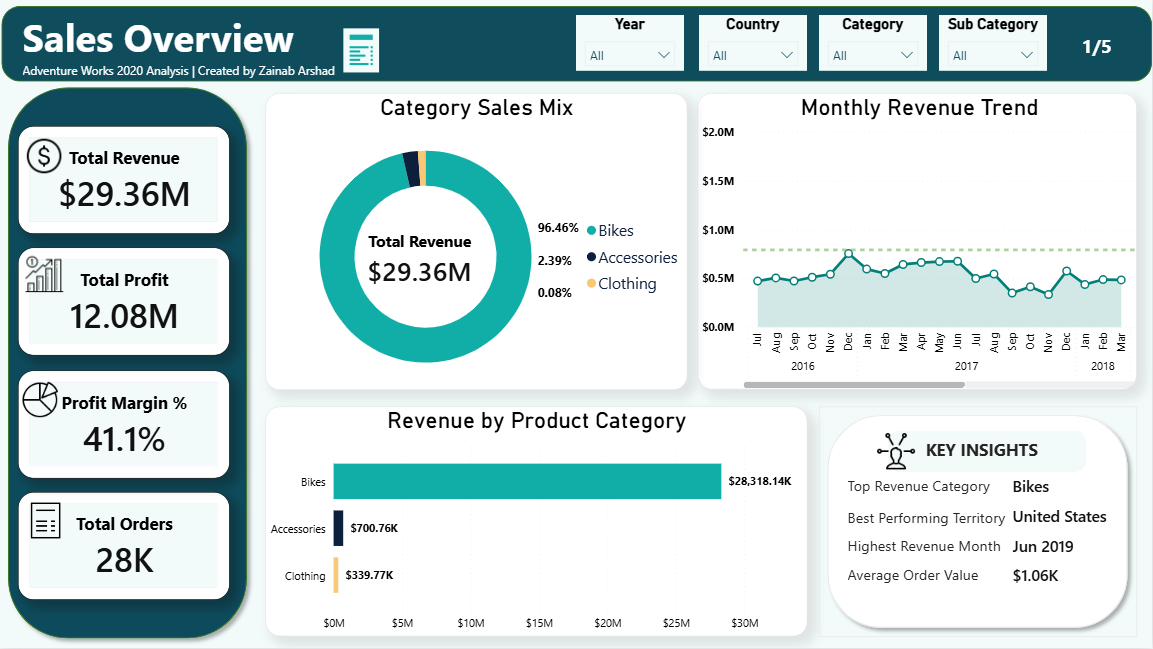

The page's visual inventory and layout, read from the dashboard file:
{"tool":"powerbi","page":{"name":"Sales Overview","canvas":[1280,720],"ordinal":0},"visuals":[{"type":"lineChart","title":"Monthly Revenue Trend","fields":{"Y":["Sales.Total Revenue"],"Category":["Calendar.CalendarYear","Calendar.Month Short"]},"box":[774.6,103.4,488.3,329.3],"z":0},{"type":"clusteredBarChart","title":"Revenue by Product Category","fields":{"Category":["Products.Category"],"Y":["Sales.Total Revenue"]},"box":[295,451.7,601.7,255],"z":1000},{"type":"donutChart","title":"Category Sales Mix","fields":{"Category":["Products.Category"],"Y":["Sales.Total Revenue"]},"box":[295,103.3,468.3,330],"z":2000},{"type":"shape","box":[1,7,1278.3,84],"z":3000},{"type":"shape","box":[0,88.3,283.3,630],"z":4000},{"type":"cardVisual","fields":{"Data":["Sales.Total Orders"]},"box":[20,546,235,120],"z":5000},{"type":"cardVisual","fields":{"Data":["Sales.Profit Margin %"]},"box":[20,411.1,235,120],"z":6000},{"type":"cardVisual","title":"Total Revenue","fields":{"Data":["Sales.Total Revenue"]},"box":[20,140,235,120],"z":7000},{"type":"cardVisual","fields":{"Data":["Sales.Total Profit"]},"box":[20,275.6,235,120],"z":8000},{"type":"cardVisual","title":"Total Revenue","fields":{"Data":["Sales.Total Revenue"]},"box":[373.3,233.3,186.7,108.3],"z":9000},{"type":"textbox","box":[585,220,95,151.7],"z":10000},{"type":"slicer","title":"Year","fields":{"Values":["Calendar.CalendarYear"]},"box":[640,16.7,120,61.7],"z":11000},{"type":"slicer","title":"Sub Category","fields":{"Values":["Products.SubCategory"]},"box":[1043.3,16.7,120,61.7],"z":12000},{"type":"slicer","title":"Category","fields":{"Values":["Products.Category"]},"box":[910,16.7,120,61.7],"z":13000},{"type":"slicer","title":"Country","fields":{"Values":["Territory.Country"]},"box":[776.7,16.7,120,61.7],"z":14000},{"type":"textbox","box":[20,6.7,588.3,96.7],"z":15000},{"type":"shape","box":[909.8,451.7,353.1,256.1],"z":16000},{"type":"textbox","box":[936,524,183.3,33.3],"z":17000},{"type":"textbox","box":[936,558,205,40],"z":18000},{"type":"textbox","box":[936,590,191.7,38.3],"z":19000},{"type":"textbox","box":[936,622,223.3,33.3],"z":20000},{"type":"cardVisual","fields":{"Data":["Sales.Top Revenue Category"]},"box":[1100.7,512.2,179.7,52.5],"z":21000},{"type":"cardVisual","fields":{"Data":["Territory.Best Performing Territory"]},"box":[1100,545,161.7,53.3],"z":22000},{"type":"cardVisual","fields":{"Data":["Calendar.Highest Revenue Month"]},"box":[1100,578,143.3,53.3],"z":23000},{"type":"cardVisual","fields":{"Data":["Sales.Average Order Value"]},"box":[1100,610,115,53.3],"z":24000},{"type":"textbox","box":[1196,30,84,48],"z":25000},{"type":"shape","box":[986,478,220,46],"z":26000},{"type":"textbox","box":[1002,482,234,44],"z":27000},{"type":"image","box":[21.7,146.7,55,53.3],"z":28000},{"type":"image","box":[21.7,276.7,55,58.3],"z":29000},{"type":"image","box":[23.3,410,41.7,68.3],"z":30000},{"type":"image","box":[1.7,556.7,98.3,43.3],"z":31000},{"type":"image","box":[936,478,118,46],"z":32000},{"type":"image","box":[374,10,56,92],"z":33000}]}

Visuals, with their boxes in screenshot pixels (x1, y1, x2, y2), scaled from the page's 1280x720 canvas onto the 1153x649 screenshot:
"Monthly Revenue Trend" lineChart: locate(698, 93, 1138, 390)
"Revenue by Product Category" clusteredBarChart: locate(266, 407, 808, 637)
"Category Sales Mix" donutChart: locate(266, 93, 688, 391)
shape: locate(1, 6, 1152, 82)
shape: locate(0, 80, 255, 647)
cardVisual - Sales.Total Orders: locate(18, 492, 230, 600)
cardVisual - Sales.Profit Margin %: locate(18, 371, 230, 479)
"Total Revenue" cardVisual: locate(18, 126, 230, 234)
cardVisual - Sales.Total Profit: locate(18, 248, 230, 357)
"Total Revenue" cardVisual: locate(336, 210, 504, 308)
textbox: locate(527, 198, 613, 335)
"Year" slicer: locate(576, 15, 685, 71)
"Sub Category" slicer: locate(940, 15, 1048, 71)
"Category" slicer: locate(820, 15, 928, 71)
"Country" slicer: locate(700, 15, 808, 71)
textbox: locate(18, 6, 548, 93)
shape: locate(820, 407, 1138, 638)
textbox: locate(843, 472, 1008, 502)
textbox: locate(843, 503, 1028, 539)
textbox: locate(843, 532, 1016, 566)
textbox: locate(843, 561, 1044, 591)
cardVisual - Sales.Top Revenue Category: locate(991, 462, 1152, 509)
cardVisual - Territory.Best Performing Territory: locate(991, 491, 1137, 539)
cardVisual - Calendar.Highest Revenue Month: locate(991, 521, 1120, 569)
cardVisual - Sales.Average Order Value: locate(991, 550, 1094, 598)
textbox: locate(1077, 27, 1152, 70)
shape: locate(888, 431, 1086, 472)
textbox: locate(903, 434, 1113, 474)
image: locate(20, 132, 69, 180)
image: locate(20, 249, 69, 302)
image: locate(21, 370, 59, 431)
image: locate(2, 502, 90, 541)
image: locate(843, 431, 949, 472)
image: locate(337, 9, 387, 92)
